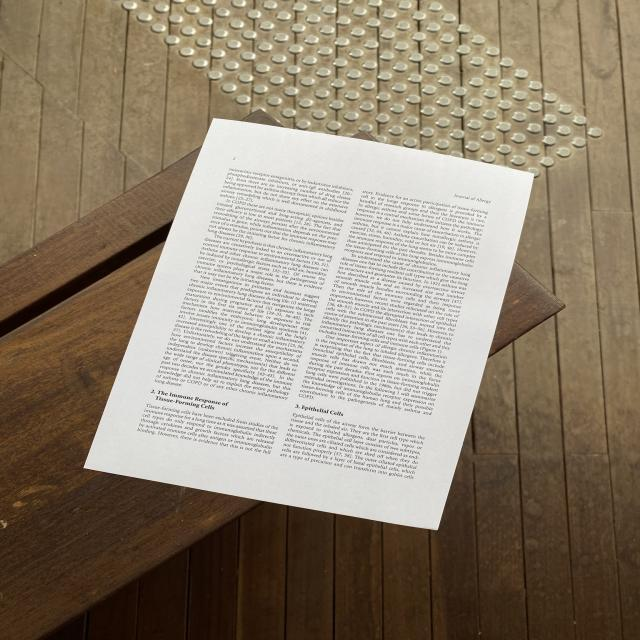document: (85, 119, 532, 529)
